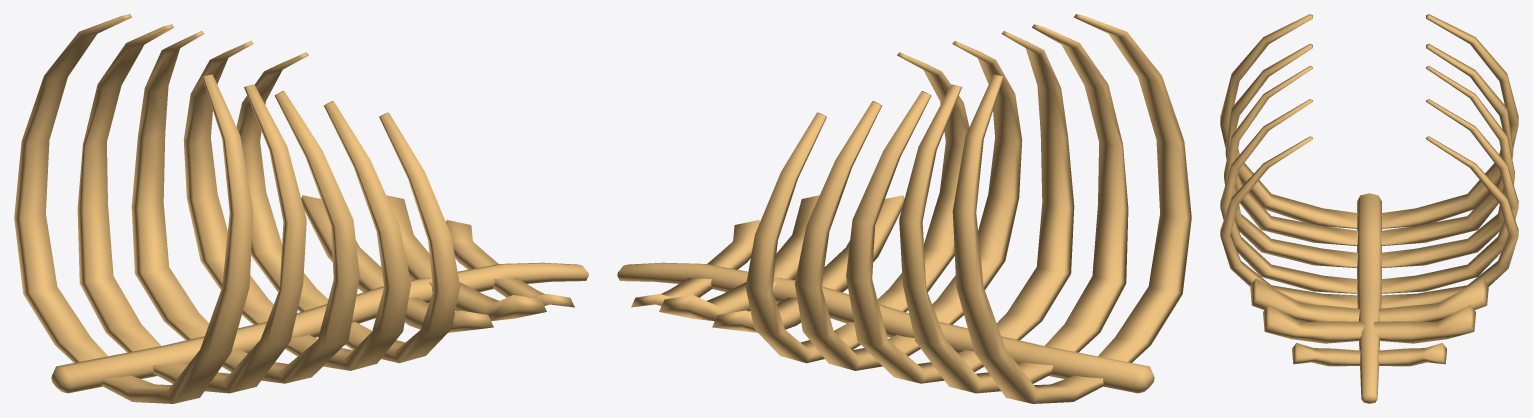
The model's file is Bones_05.fbx.
The picture shows the model from 3 angles, left to right: view 1: azimuth 30°, elevation 25°; view 2: azimuth 150°, elevation 25°; view 3: azimuth 270°, elevation 25°; orthographic projection. The views are drawn at different scales.
Parts seen in each view (by area): view 1: Bones_05; view 2: Bones_05; view 3: Bones_05.
Boxes of the visible parts, x1,y1,x2,y2 form: Bones_05: (14,14,588,403); Bones_05: (617,14,1191,403); Bones_05: (1220,14,1518,403).
Bounding box in the file's own units: 269 × 163 × 182.
